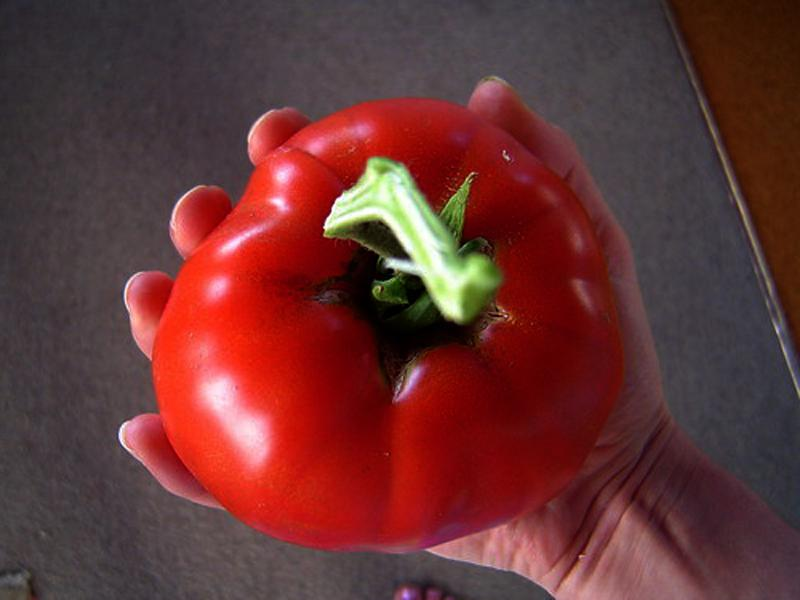Tomato: (153, 96, 621, 550)
